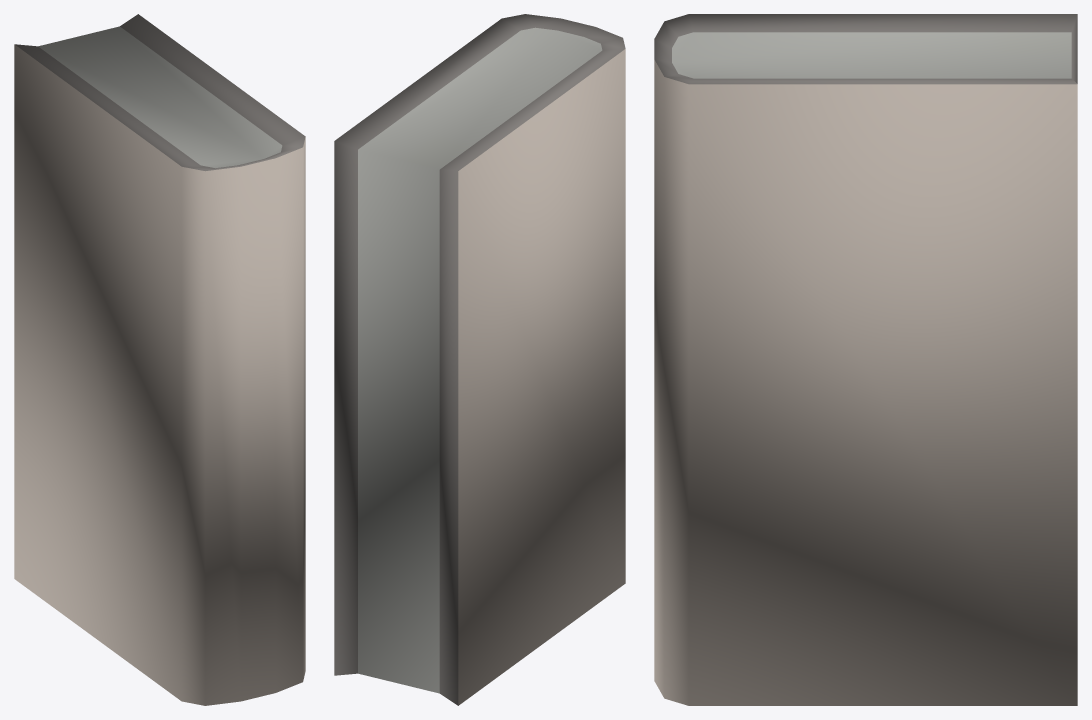
File: Assets.fbx_Book_5.fbx
3 views of the same model, side by side, from view 1: azimuth 30°, elevation 25°; view 2: azimuth 150°, elevation 25°; view 3: azimuth 270°, elevation 25° (orthographic). The views are drawn at different scales.
Visible parts, largest first — view 1: Book 5; view 2: Book 5; view 3: Book 5.
Part boxes in pixels (x1,y1,x2,y2): Book 5: (14,14,305,705); Book 5: (334,14,625,705); Book 5: (654,14,1077,705).
Bounding box in the file's own units: 9.38 × 38.66 × 23.88.
